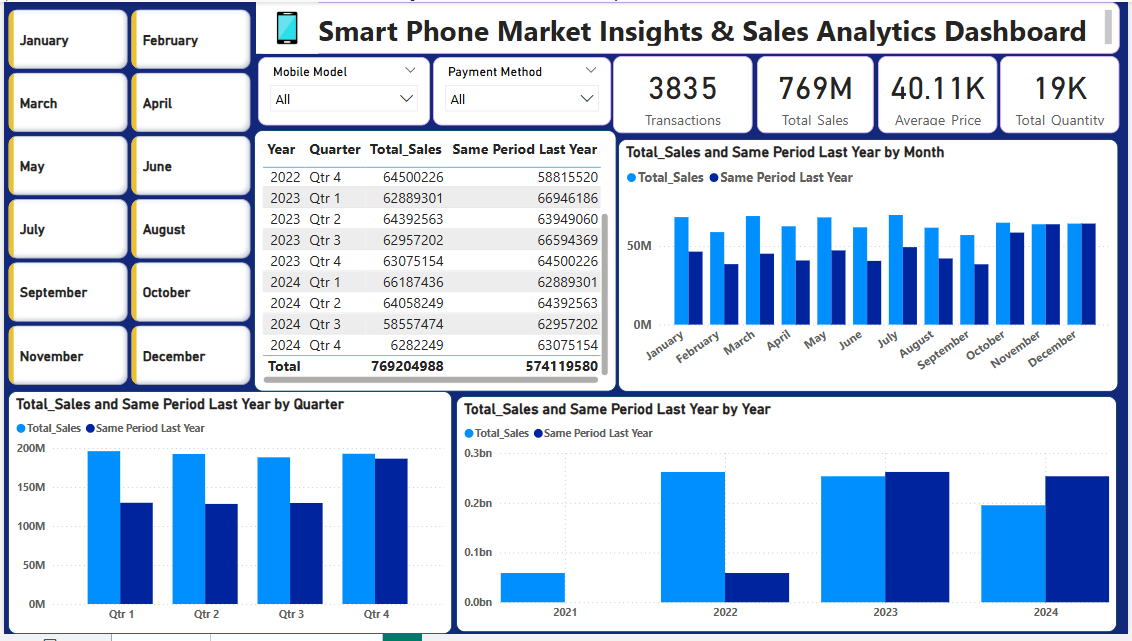

This screenshot's page, from the dashboard's own definition file:
{"tool":"powerbi","page":{"name":"Same Period of last year","canvas":[1280,720],"ordinal":1},"visuals":[{"type":"advancedSlicerVisual","fields":{"Values":["Custom_Calender.Date.Variation.Date Hierarchy.Month"]},"box":[0,3.8,286.9,443.7],"z":0},{"type":"slicer","fields":{"Values":["Mobile_Sales.Mobile Model"]},"box":[289.4,62.5,196.3,77.8],"z":1000},{"type":"slicer","fields":{"Values":["Mobile_Sales.Payment Method"]},"box":[488.3,62.5,202.7,77.8],"z":2000},{"type":"card","fields":{"Values":["Mobile_Sales.Total_Sales"]},"box":[858,61.2,132.6,88],"z":3000},{"type":"card","fields":{"Values":["Mobile_Sales.Average_Price"]},"box":[995.7,61.2,136.4,88],"z":4000},{"type":"card","fields":{"Values":["Mobile_Sales.Total_Quantity"]},"box":[1134.7,61.2,136.4,88],"z":5000},{"type":"textbox","box":[286.6,0,984.4,59.1],"z":6000},{"type":"image","box":[286.9,0,71.4,58.6],"z":7000},{"type":"card","fields":{"Values":["Mobile_Sales.Transactions"]},"box":[693.5,61.2,159.4,88],"z":8000},{"type":"tableEx","fields":{"Values":["Custom_Calender.Date.Variation.Date Hierarchy.Year","Custom_Calender.Date.Variation.Date Hierarchy.Quarter","Mobile_Sales.Total_Sales","Mobile_Sales.Same Period Last Year"]},"box":[284.3,145.3,413.1,298.3],"z":9000},{"type":"clusteredColumnChart","fields":{"Category":["Custom_Calender.Date.Variation.Date Hierarchy.Year","Custom_Calender.Date.Variation.Date Hierarchy.Quarter"],"Y":["Mobile_Sales.Total_Sales","Mobile_Sales.Same Period Last Year"]},"box":[515.1,448.8,753.5,269],"z":10000},{"type":"clusteredColumnChart","fields":{"Y":["Mobile_Sales.Total_Sales","Mobile_Sales.Same Period Last Year"],"Category":["Custom_Calender.Date.Variation.Date Hierarchy.Year","Custom_Calender.Date.Variation.Date Hierarchy.Quarter","Custom_Calender.Date.Variation.Date Hierarchy.Month","Custom_Calender.Date.Variation.Date Hierarchy.Day"]},"box":[699.9,155.5,569.9,288.1],"z":11000},{"type":"clusteredColumnChart","fields":{"Category":["Custom_Calender.Date.Variation.Date Hierarchy.Year","Custom_Calender.Date.Variation.Date Hierarchy.Quarter"],"Y":["Mobile_Sales.Total_Sales","Mobile_Sales.Same Period Last Year"]},"box":[5.1,443.3,506.1,276.7],"z":12000}]}

Visuals, with their boxes in screenshot pixels (x1, y1, x2, y2), scaled from the page's 1280x720 canvas onto the 1132x641 screenshot:
advancedSlicerVisual - Custom_Calender.Date.Variation.Date Hierarchy.Month: Rect(0, 3, 254, 398)
slicer - Mobile_Sales.Mobile Model: Rect(256, 56, 430, 125)
slicer - Mobile_Sales.Payment Method: Rect(432, 56, 611, 125)
card - Mobile_Sales.Total_Sales: Rect(759, 54, 876, 133)
card - Mobile_Sales.Average_Price: Rect(881, 54, 1001, 133)
card - Mobile_Sales.Total_Quantity: Rect(1004, 54, 1124, 133)
textbox: Rect(253, 0, 1124, 53)
image: Rect(254, 0, 317, 52)
card - Mobile_Sales.Transactions: Rect(613, 54, 754, 133)
tableEx - Custom_Calender.Date.Variation.Date Hierarchy.Year x Custom_Calender.Date.Variation.Date Hierarchy.Quarter: Rect(251, 129, 617, 395)
clusteredColumnChart - Custom_Calender.Date.Variation.Date Hierarchy.Year x Custom_Calender.Date.Variation.Date Hierarchy.Quarter: Rect(456, 400, 1122, 639)
clusteredColumnChart - Mobile_Sales.Total_Sales x Mobile_Sales.Same Period Last Year: Rect(619, 138, 1123, 395)
clusteredColumnChart - Custom_Calender.Date.Variation.Date Hierarchy.Year x Custom_Calender.Date.Variation.Date Hierarchy.Quarter: Rect(5, 395, 452, 640)
